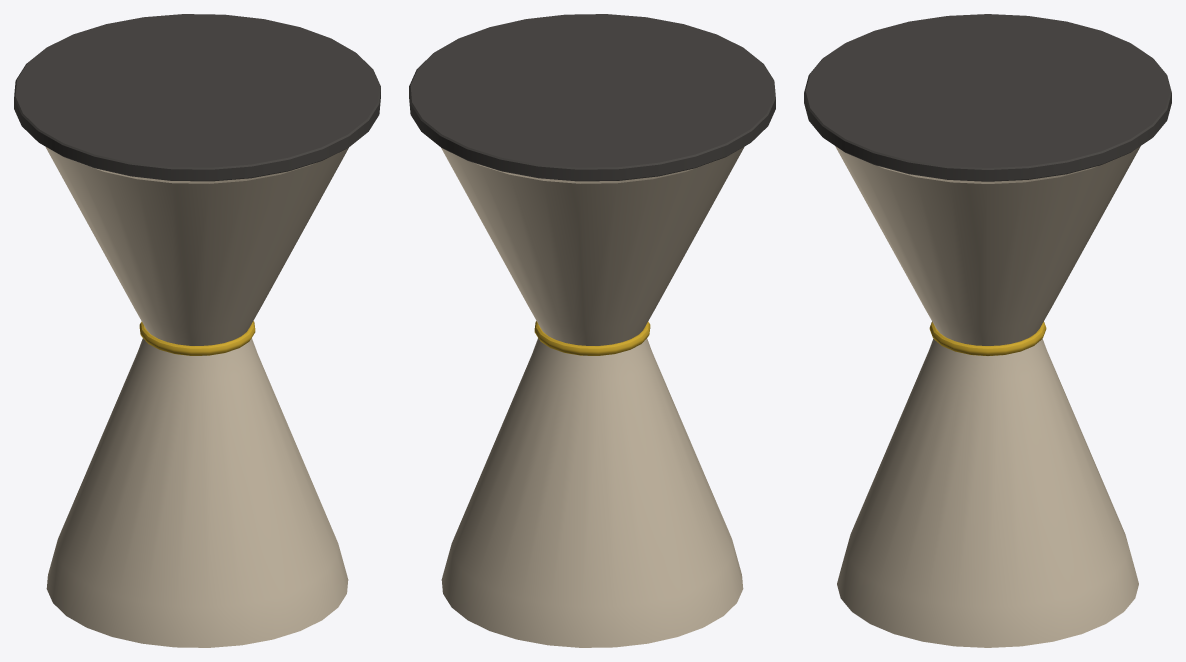
The model's file is prop_cocktail_table.glb.
3 views of the same model, side by side, from view 1: azimuth 30°, elevation 25°; view 2: azimuth 150°, elevation 25°; view 3: azimuth 270°, elevation 25° (orthographic).
Visible parts, largest first — view 1: Table; view 2: Table; view 3: Table.
Boxes of the visible parts, <box> form: Table: <box>14,14,380,647</box>; Table: <box>409,14,775,647</box>; Table: <box>804,14,1171,647</box>.
Size of what is drawn, in the model's own units: 0.73 by 1.08 by 0.73.
